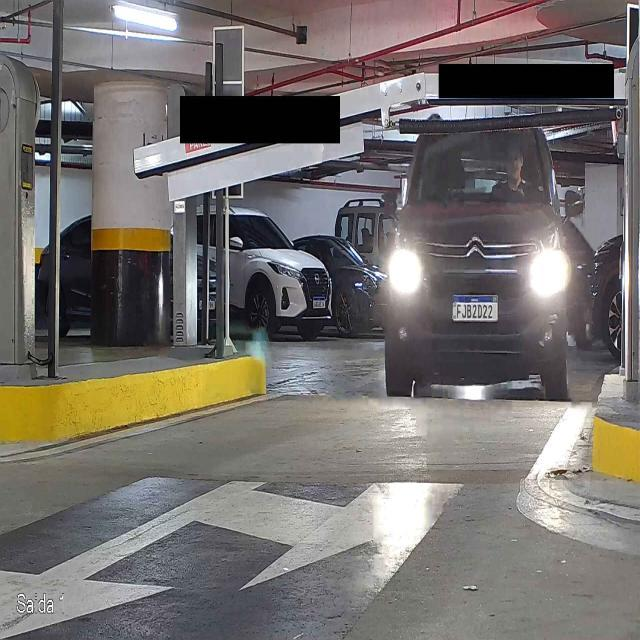old_plate: (450, 293, 500, 324)
